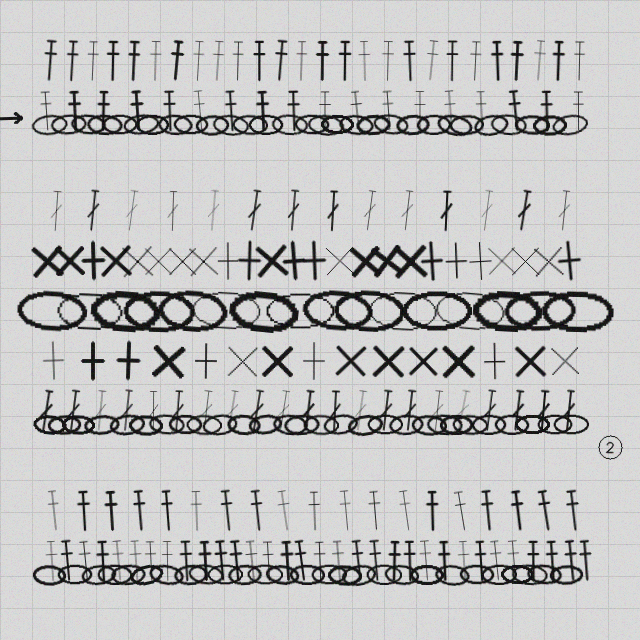chain: (432, 287, 507, 335), (226, 287, 300, 335), (156, 287, 230, 334), (300, 287, 374, 334), (88, 287, 161, 334), (189, 288, 264, 333), (332, 288, 407, 333), (15, 288, 88, 334), (366, 288, 440, 333), (470, 288, 543, 333), (540, 289, 614, 333), (53, 288, 125, 333), (122, 289, 195, 333), (503, 289, 576, 333), (263, 290, 336, 332), (401, 290, 472, 332), (435, 111, 474, 139), (128, 561, 166, 589), (147, 562, 186, 588), (472, 112, 510, 138), (551, 112, 589, 138), (346, 412, 384, 438), (340, 562, 378, 588), (122, 112, 160, 137), (372, 112, 410, 137), (108, 412, 146, 437), (201, 412, 239, 437), (187, 562, 225, 587), (247, 412, 284, 437), (322, 412, 359, 437), (212, 113, 250, 137), (307, 113, 345, 137), (80, 563, 118, 587), (31, 113, 68, 137), (83, 413, 120, 437), (264, 563, 301, 587), (383, 563, 420, 587), (271, 113, 309, 136), (338, 113, 374, 137), (32, 413, 68, 437), (434, 563, 470, 587), (50, 113, 87, 136), (70, 113, 107, 136), (86, 113, 123, 136), (490, 113, 527, 136), (148, 413, 185, 436), (283, 413, 320, 436), (426, 413, 463, 436), (511, 563, 548, 586), (526, 563, 563, 586), (157, 113, 193, 136), (355, 113, 391, 136), (395, 113, 431, 136), (226, 413, 262, 436), (272, 413, 308, 436), (388, 413, 424, 436), (110, 563, 146, 586), (173, 563, 209, 586), (227, 563, 263, 586), (232, 114, 268, 136), (514, 114, 550, 136), (186, 414, 222, 436), (303, 414, 339, 436), (411, 414, 447, 436), (452, 414, 488, 436), (195, 114, 230, 136), (449, 114, 484, 136), (532, 114, 567, 136), (47, 414, 82, 436), (61, 414, 96, 436), (128, 414, 163, 436), (32, 564, 67, 586), (327, 564, 362, 586), (549, 564, 584, 586), (102, 114, 138, 135), (173, 114, 209, 135), (248, 114, 284, 135), (294, 114, 330, 135), (416, 114, 452, 135), (367, 414, 403, 435), (471, 414, 507, 435), (494, 414, 530, 435), (514, 414, 550, 435), (537, 414, 573, 435), (553, 414, 589, 435), (57, 564, 93, 585), (97, 564, 133, 585), (207, 564, 243, 585), (247, 564, 283, 585), (289, 564, 325, 585), (311, 564, 347, 585), (366, 564, 402, 585), (459, 564, 495, 585), (481, 564, 517, 585), (135, 114, 170, 135), (320, 114, 355, 135), (168, 414, 203, 435), (439, 414, 474, 435), (409, 564, 444, 585), (500, 564, 535, 585)
double: (452, 389, 473, 432), (514, 189, 534, 232), (36, 389, 56, 432), (222, 389, 242, 432), (247, 389, 267, 432), (273, 389, 293, 432), (122, 189, 141, 232), (245, 189, 264, 232), (360, 189, 379, 232), (477, 189, 496, 232), (64, 389, 83, 432), (351, 389, 370, 432), (480, 389, 499, 432), (508, 389, 527, 432), (84, 189, 102, 232), (398, 189, 416, 232), (555, 189, 573, 232), (118, 389, 136, 432), (197, 389, 215, 432), (299, 389, 317, 432), (377, 389, 395, 432), (401, 389, 419, 432), (428, 389, 446, 432), (560, 389, 578, 432), (205, 189, 222, 232), (285, 189, 302, 232), (92, 389, 109, 432), (535, 389, 552, 432), (169, 390, 186, 432), (48, 190, 64, 232), (325, 190, 341, 232), (327, 390, 343, 432), (165, 190, 180, 232), (439, 190, 454, 232), (146, 390, 160, 432)
half_double: (450, 489, 472, 533), (534, 489, 556, 532), (274, 489, 295, 532), (395, 489, 416, 532), (291, 539, 312, 582), (422, 39, 442, 82), (347, 89, 367, 132), (505, 89, 525, 132), (44, 489, 64, 532), (217, 489, 237, 532), (247, 489, 267, 532), (508, 489, 528, 532), (563, 489, 583, 532), (75, 539, 95, 582), (242, 539, 262, 582), (348, 539, 368, 582), (486, 539, 506, 582), (561, 539, 581, 582), (167, 39, 186, 82), (271, 39, 290, 82), (530, 39, 549, 82), (190, 89, 209, 132), (441, 89, 460, 132), (130, 489, 149, 532), (158, 489, 177, 532), (336, 489, 355, 532), (365, 489, 384, 532), (478, 489, 497, 532), (58, 539, 77, 582), (109, 539, 128, 582), (212, 539, 231, 582), (227, 539, 246, 582), (329, 539, 348, 582), (366, 539, 385, 582), (416, 539, 435, 582), (504, 539, 523, 582), (576, 539, 595, 582), (41, 39, 59, 82), (128, 89, 146, 132), (379, 89, 397, 132), (127, 539, 145, 582), (63, 40, 81, 82), (189, 40, 207, 82), (209, 40, 227, 82), (466, 40, 484, 82), (37, 90, 55, 132), (222, 90, 240, 132), (75, 490, 93, 532), (102, 490, 120, 532), (43, 540, 61, 582), (94, 540, 112, 582), (177, 540, 195, 582), (196, 540, 214, 582), (259, 540, 277, 582), (278, 540, 296, 582), (455, 540, 473, 582), (472, 540, 490, 582), (543, 540, 561, 582), (84, 40, 101, 82), (125, 40, 142, 82), (147, 40, 164, 82), (229, 40, 246, 82), (293, 40, 310, 82), (356, 40, 373, 82), (379, 40, 396, 82), (401, 40, 418, 82), (489, 40, 506, 82), (508, 40, 525, 82), (550, 40, 567, 82), (66, 90, 83, 132), (95, 90, 112, 132), (161, 90, 178, 132), (254, 90, 271, 132), (285, 90, 302, 132), (473, 90, 490, 132), (538, 90, 555, 132), (188, 490, 205, 532), (306, 490, 323, 532), (424, 490, 441, 532), (142, 540, 159, 582), (311, 540, 328, 582), (386, 540, 403, 582), (401, 540, 418, 582), (436, 540, 453, 582), (105, 40, 121, 82), (251, 40, 267, 82), (314, 40, 330, 82), (337, 40, 353, 82), (444, 40, 460, 82), (571, 40, 587, 82), (317, 90, 333, 132), (412, 90, 428, 132), (570, 90, 586, 132), (159, 540, 175, 582), (525, 540, 541, 582)
noise: (596, 433, 624, 461), (0, 112, 25, 124)
single: (363, 237, 410, 284), (249, 238, 294, 283), (271, 238, 316, 283), (547, 238, 592, 283), (25, 239, 69, 283), (115, 239, 159, 283), (181, 239, 225, 283), (343, 239, 387, 283), (388, 239, 432, 283), (410, 239, 454, 283), (458, 239, 502, 283), (526, 239, 570, 283), (146, 339, 190, 383), (48, 239, 91, 282), (72, 239, 115, 282), (94, 239, 137, 282), (228, 239, 271, 282), (293, 239, 336, 282), (318, 239, 361, 282), (434, 239, 477, 282), (480, 239, 523, 282), (32, 339, 75, 382), (107, 339, 150, 382), (329, 339, 372, 382), (543, 339, 586, 382), (137, 240, 179, 282), (161, 240, 203, 282), (207, 240, 249, 282), (504, 240, 546, 282), (72, 340, 114, 382), (185, 340, 227, 382), (221, 340, 263, 382), (256, 340, 298, 382), (293, 340, 335, 382), (367, 340, 409, 382), (402, 340, 444, 382), (437, 340, 479, 382), (473, 340, 515, 382), (509, 340, 551, 382)
